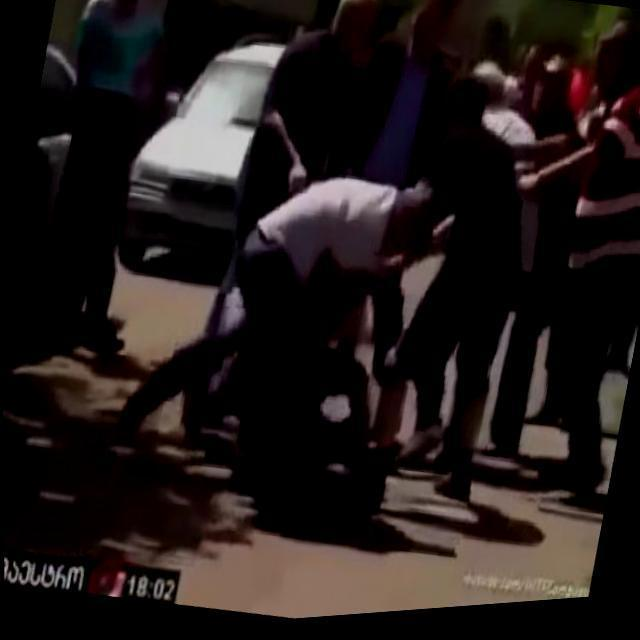fight: (118, 135, 491, 542)
